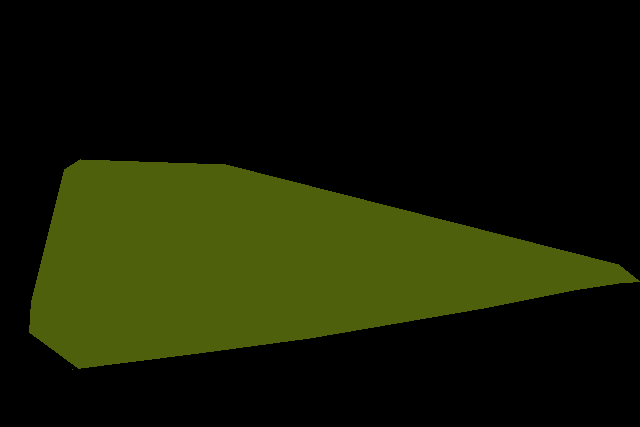Train: (29, 159, 639, 369)
